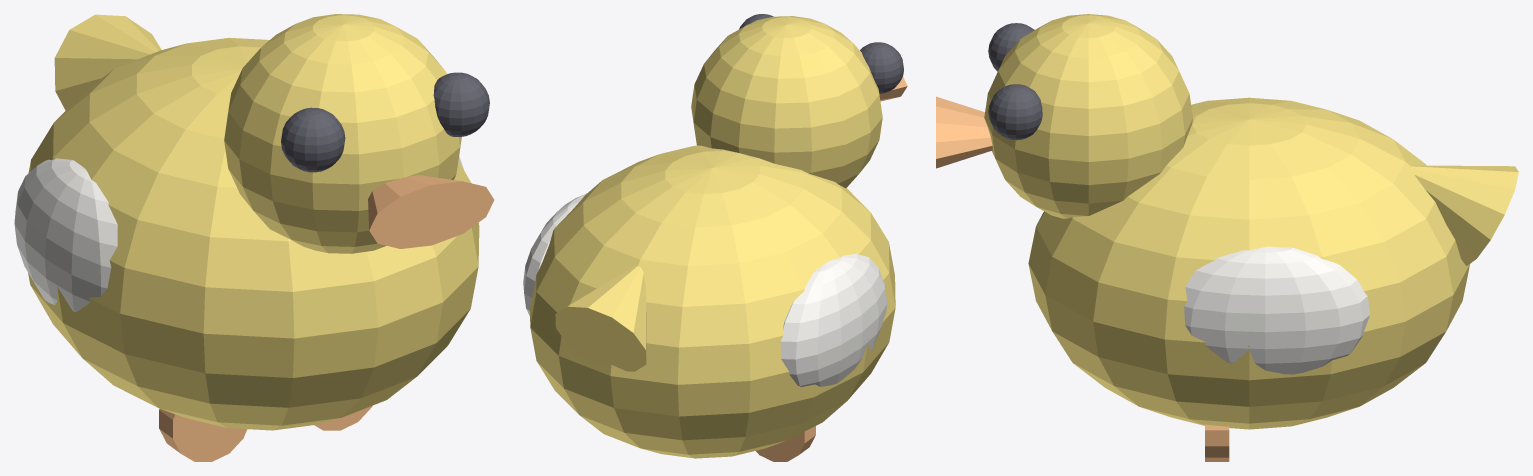
The model's file is duck.glb.
3 views of the same model, side by side, from view 1: azimuth 30°, elevation 25°; view 2: azimuth 150°, elevation 25°; view 3: azimuth 270°, elevation 25° (orthographic). The views are drawn at different scales.
Visible parts, largest first — view 1: DkYellow, DkWhite, DkOrange, DkPupil; view 2: DkYellow, DkWhite, DkPupil, DkOrange; view 3: DkYellow, DkWhite, DkOrange, DkPupil.
Part boxes in pixels (box(x1,y1,x2,y2)): DkYellow: box(28, 14, 479, 430); DkWhite: box(14, 156, 463, 311); DkOrange: box(159, 175, 494, 461); DkPupil: box(281, 72, 489, 172); DkYellow: box(530, 16, 895, 458); DkWhite: box(523, 193, 887, 386); DkPupil: box(739, 14, 903, 93); DkOrange: box(756, 77, 907, 461); DkYellow: box(984, 14, 1518, 429); DkWhite: box(1184, 246, 1369, 374); DkOrange: box(936, 96, 1229, 461); DkPupil: box(988, 23, 1042, 140).
Bounding box in the file's own units: 0.49 × 0.56 × 0.7256.
